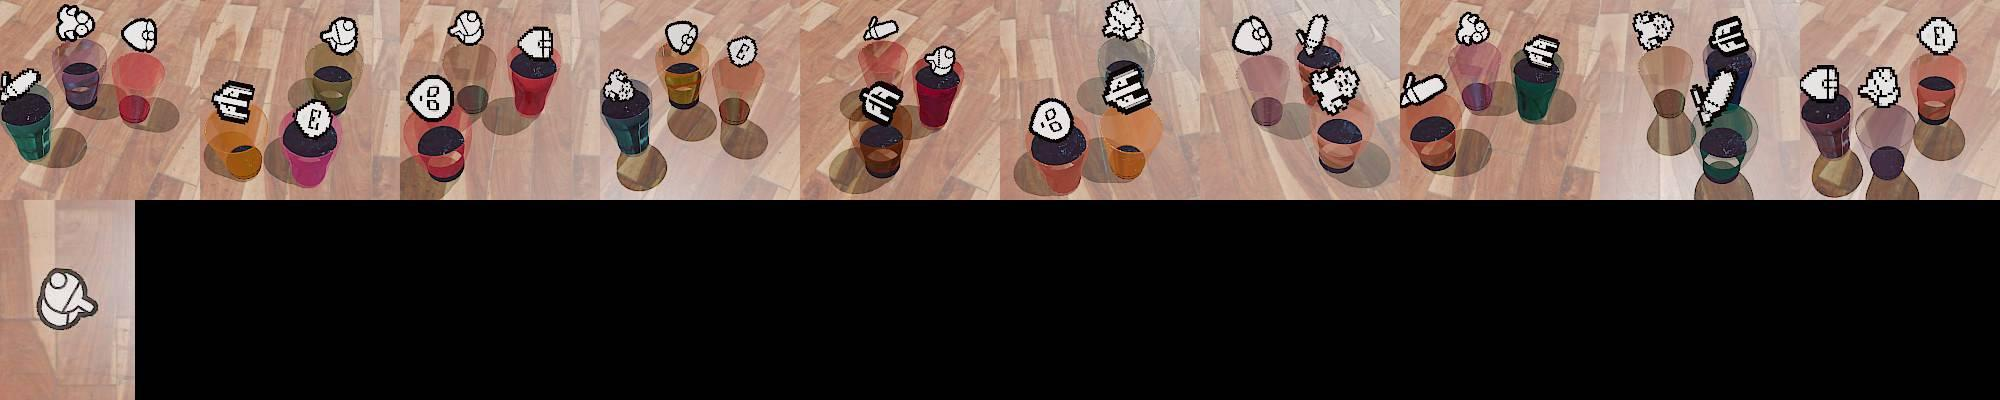icon: (34, 266, 98, 330), (1103, 61, 1153, 116), (1307, 64, 1358, 116), (1690, 69, 1736, 125), (406, 74, 455, 121), (858, 79, 906, 129), (1028, 97, 1075, 144), (1293, 13, 1333, 62), (210, 79, 255, 122), (292, 94, 334, 140), (1101, 0, 1145, 42), (1857, 66, 1901, 108), (1630, 10, 1673, 52), (1401, 69, 1446, 108), (1916, 18, 1959, 57), (1232, 14, 1272, 55), (1708, 15, 1749, 55), (1798, 65, 1841, 103), (55, 4, 97, 42), (320, 15, 358, 56), (0, 68, 42, 104), (1523, 33, 1561, 70), (517, 25, 556, 61), (120, 17, 157, 54), (663, 20, 700, 56), (448, 9, 483, 46), (1455, 10, 1490, 46), (603, 68, 636, 101), (923, 45, 957, 78), (726, 36, 758, 68), (862, 15, 899, 42)
